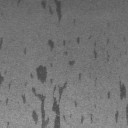red iron: (0, 0, 128, 128), (0, 37, 3, 48), (16, 0, 20, 6)
